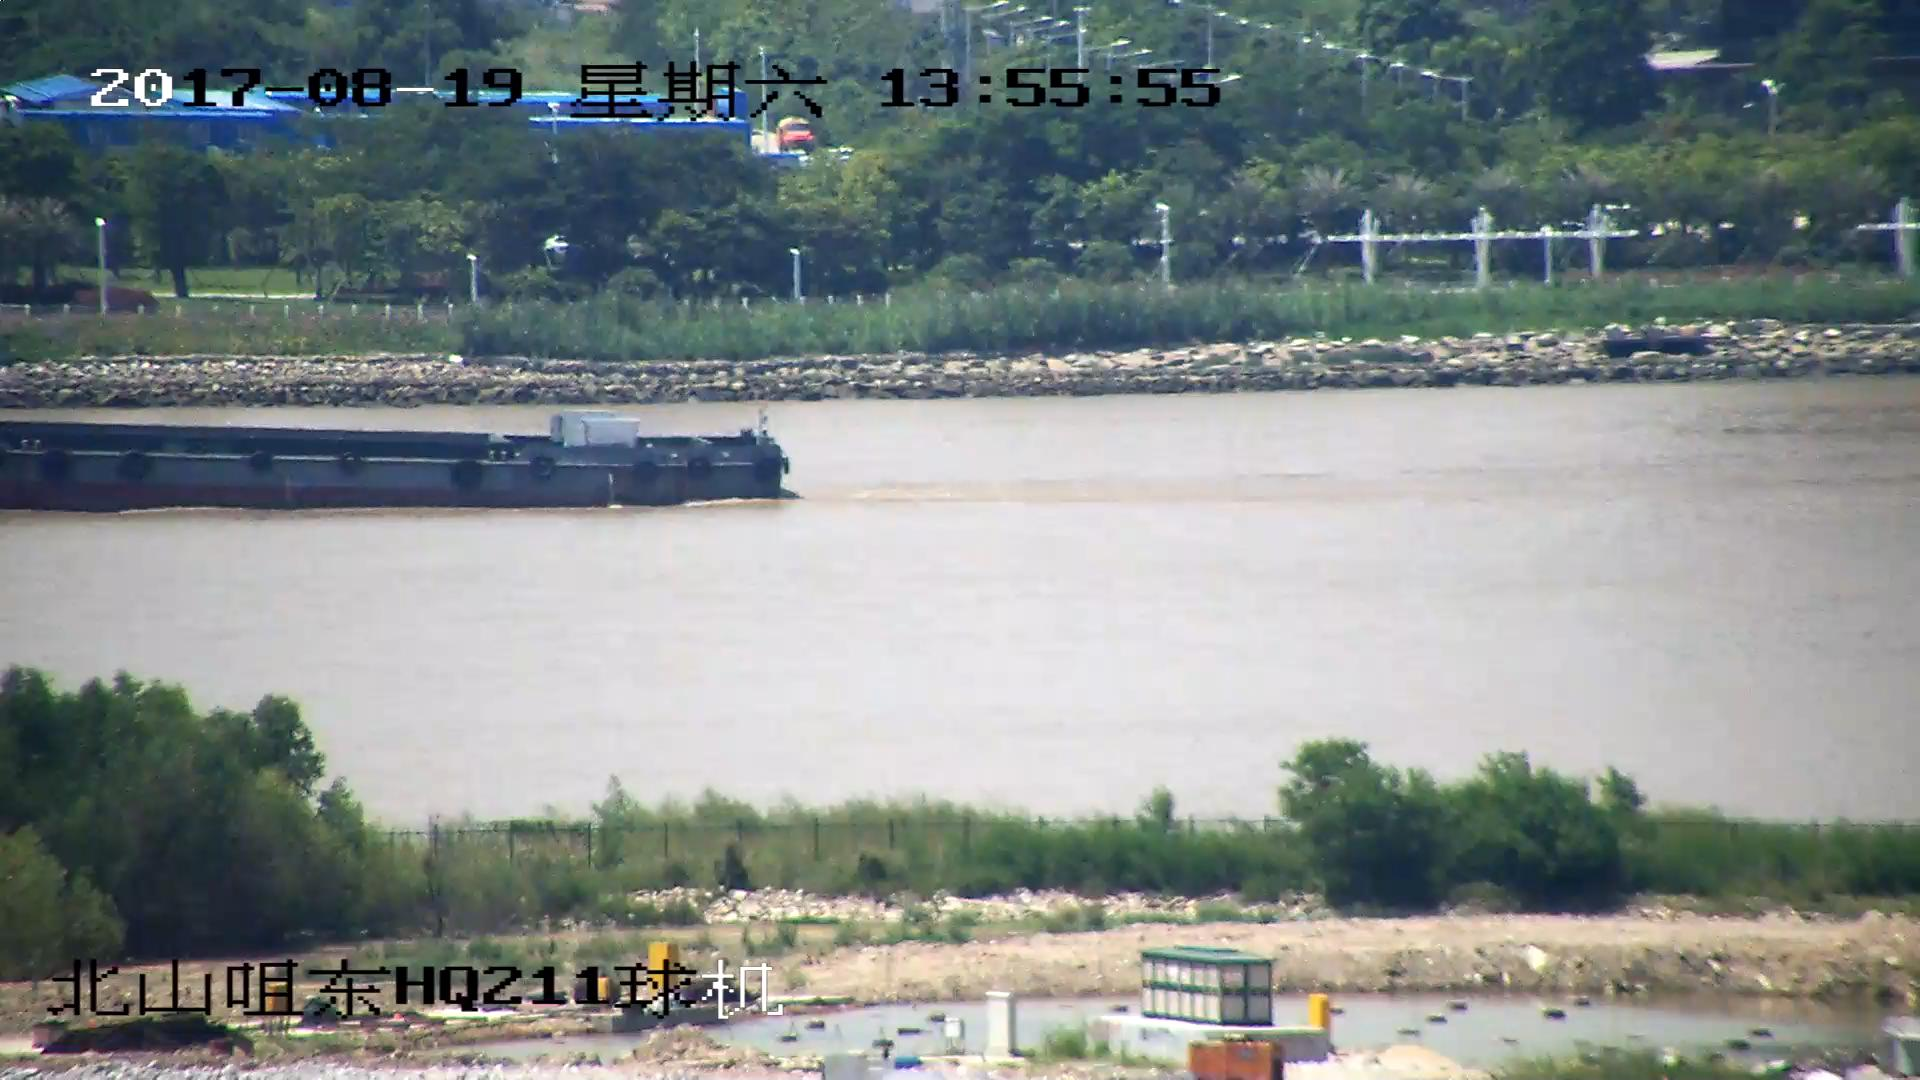general cargo ship: (1, 411, 787, 513)
